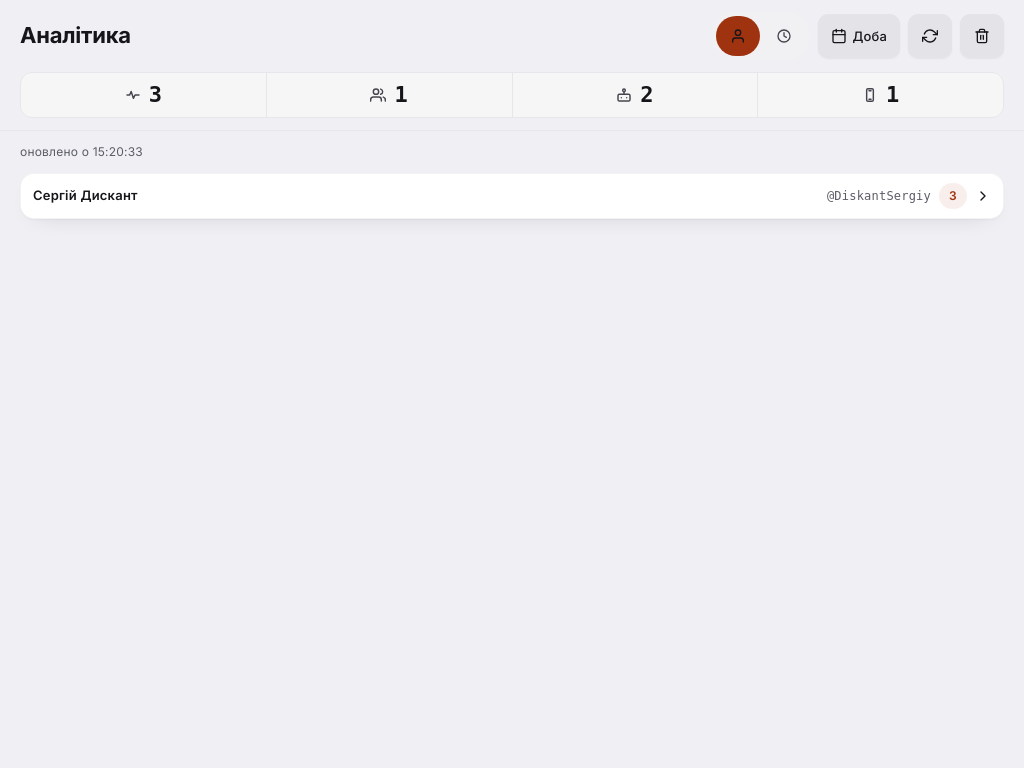
it: екран «Аналітика» › «Період» бере межі з модалки й лишається обраним
Expected: the text "Сергій Дискант" is shown, x1=33 y1=187 x2=138 y2=203
Click the button "Доба" at (859, 36), box x1=818 y1=14 x2=900 y2=58
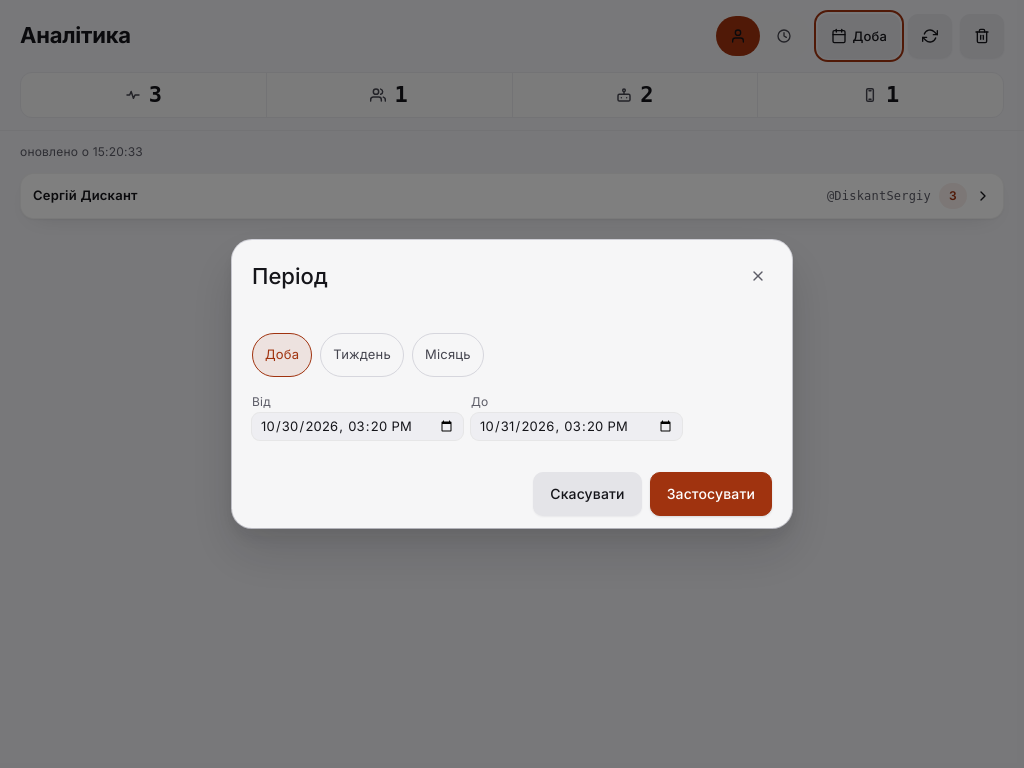
Note: date-полю значення дають зміною, а не посимвольним набором.
Replace the text in the field labelled "Від" with "2026-10-01T00:00" at (358, 427), box x1=252 y1=413 x2=463 y2=440
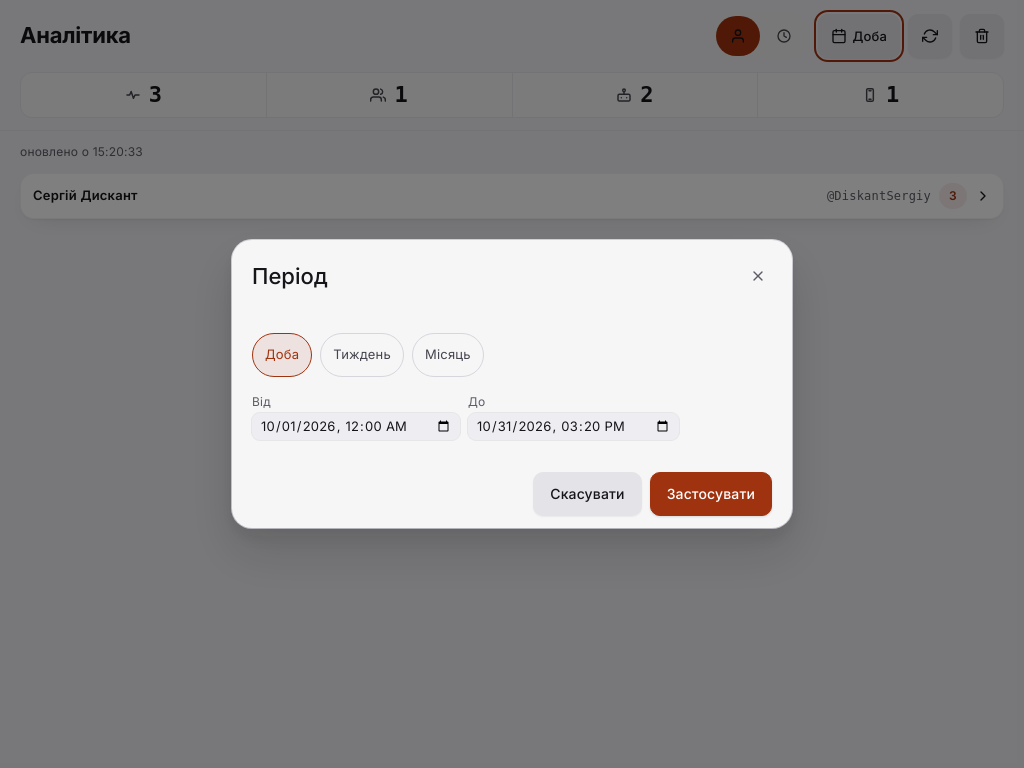
Replace the text in the field labelled "До" with "2026-10-02T00:00" at (574, 427), box x1=468 y1=413 x2=679 y2=440
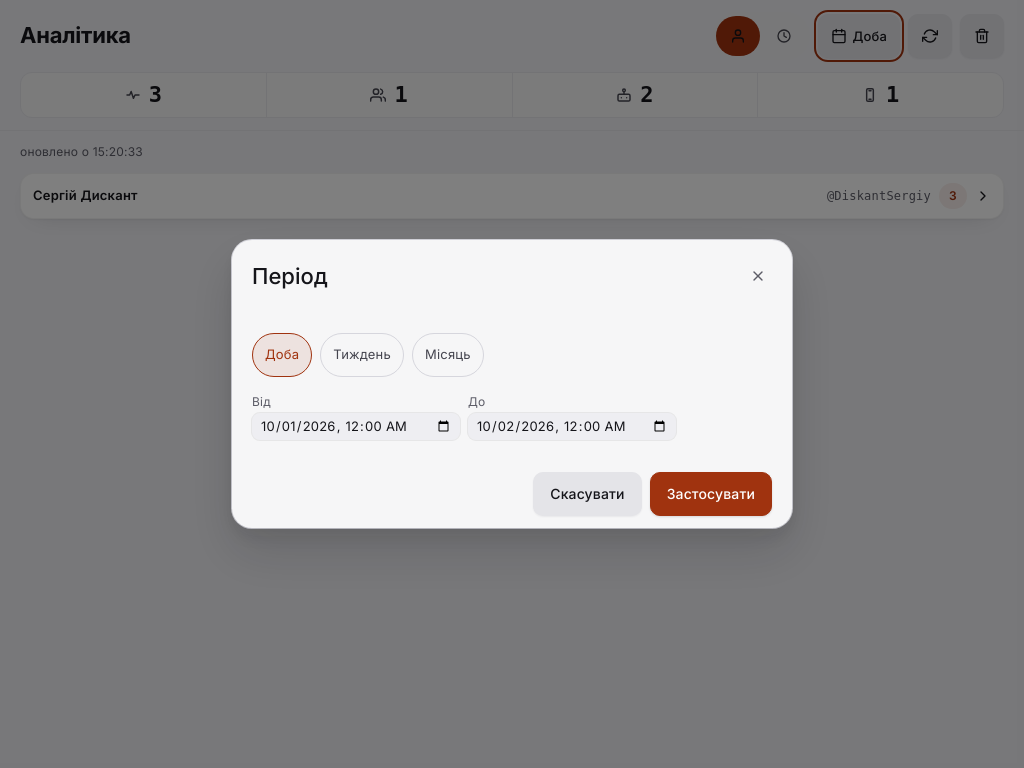
Click the button "Застосувати" at (711, 494), box x1=650 y1=472 x2=772 y2=516
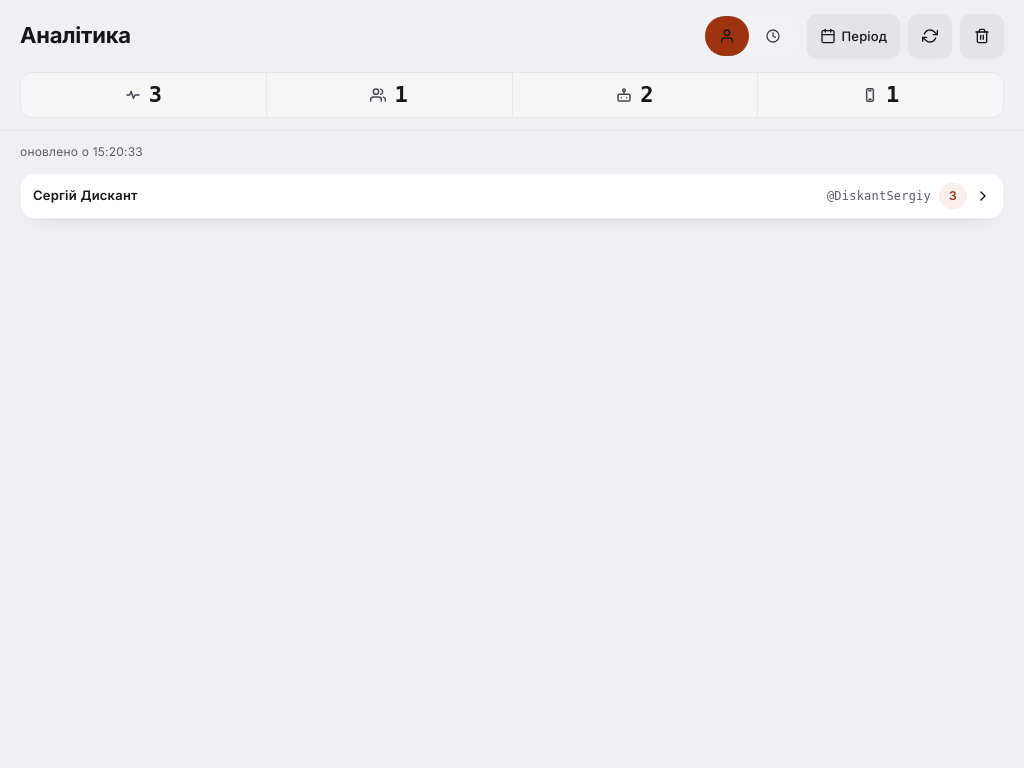
Expected: the button "Період" is shown, x1=807 y1=14 x2=900 y2=58
